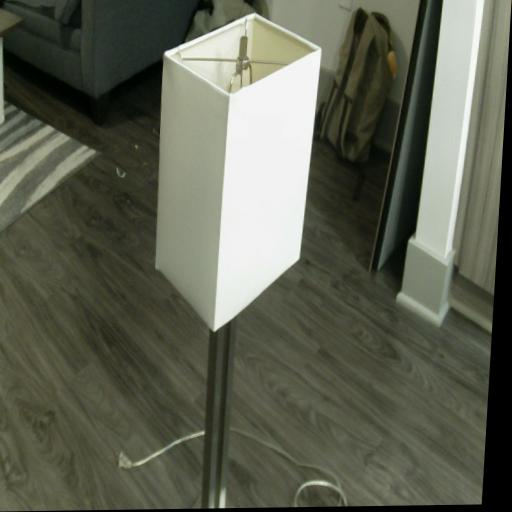lamp: (135, 11, 324, 510)
